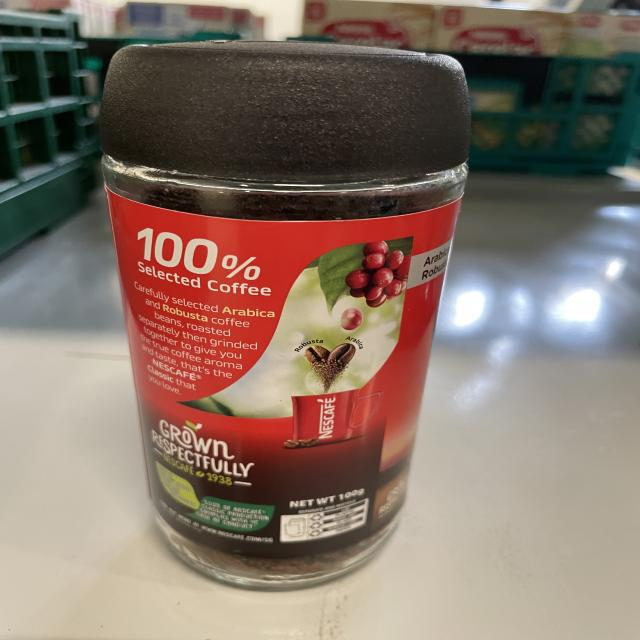object_name: (110, 55, 423, 584)
